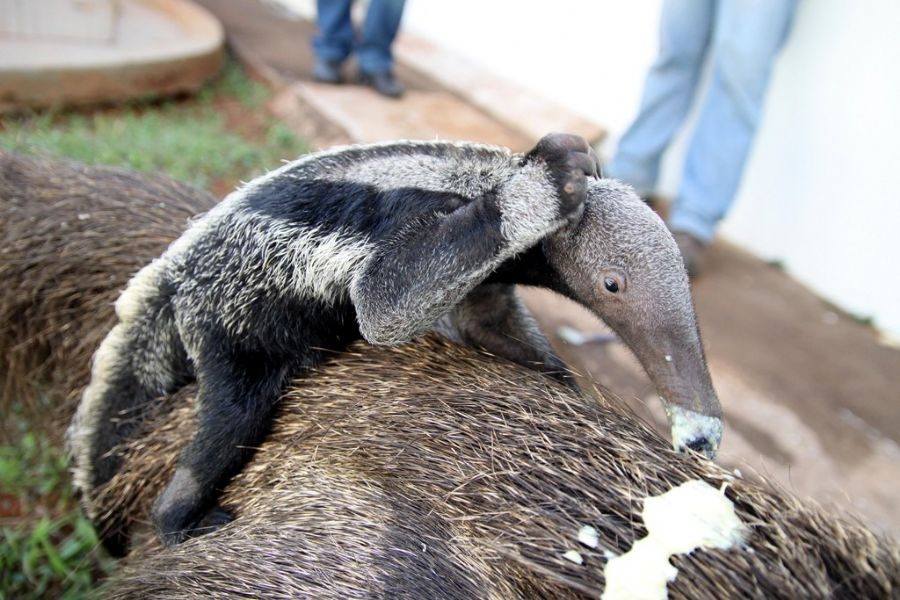TamanduaBandeira: (48, 126, 730, 540)
